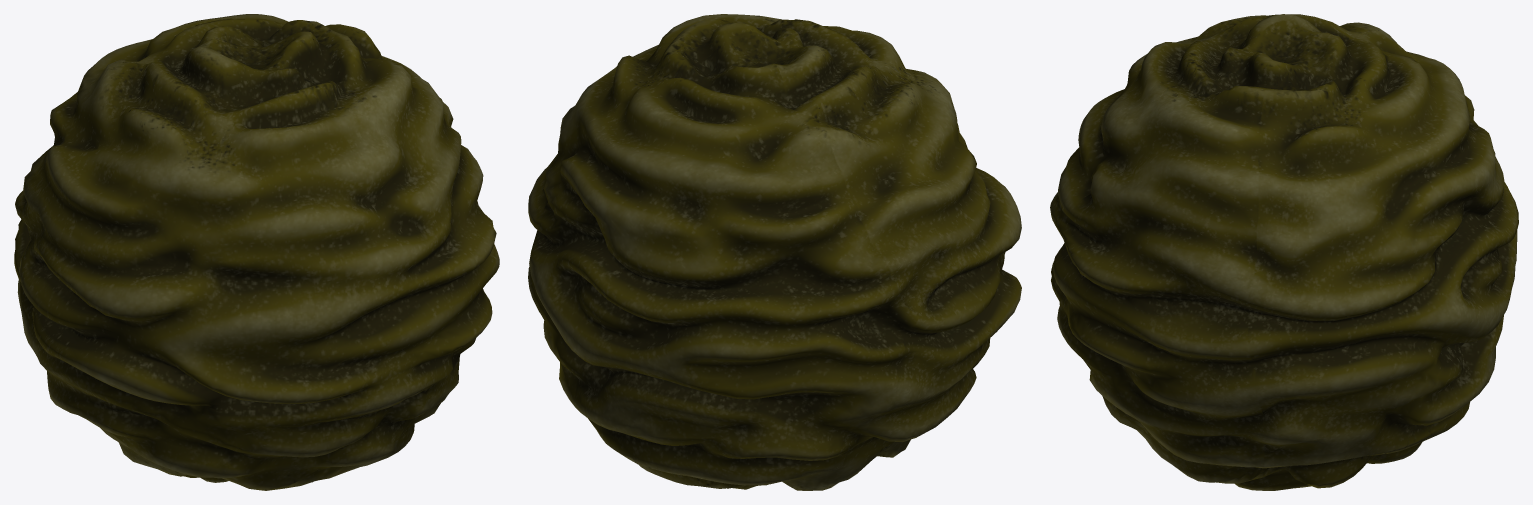
Rendered from cell05.fbx.
3 renders of one model, left to right at view 1: azimuth 30°, elevation 25°; view 2: azimuth 150°, elevation 25°; view 3: azimuth 270°, elevation 25°, orthographic.
Visible parts, largest first — view 1: greencell05lowmodel:Group15356; view 2: greencell05lowmodel:Group15356; view 3: greencell05lowmodel:Group15356.
Part boxes in pixels (x1=…): greencell05lowmodel:Group15356: x1=14, y1=14, x2=499, y2=490; greencell05lowmodel:Group15356: x1=528, y1=14, x2=1021, y2=490; greencell05lowmodel:Group15356: x1=1050, y1=14, x2=1518, y2=490.
Bounding box in the file's own units: 2.07 × 2.01 × 2.02.
